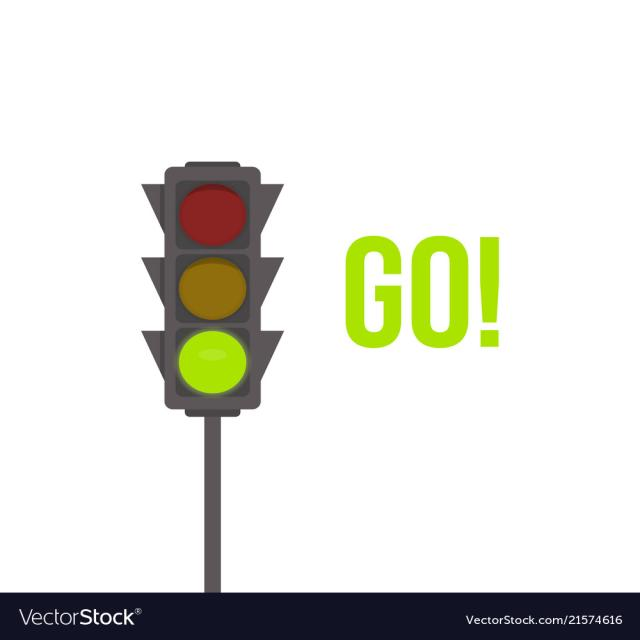green: (174, 329, 246, 394)
